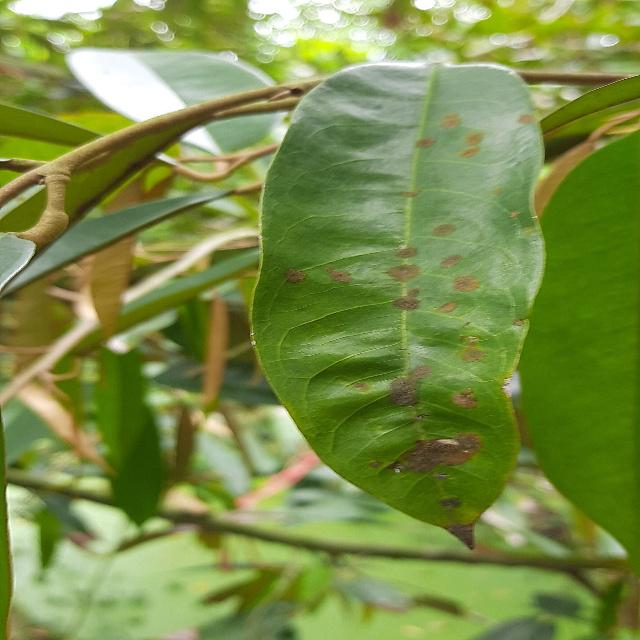Algal Leaf Spot: (243, 53, 555, 560)
